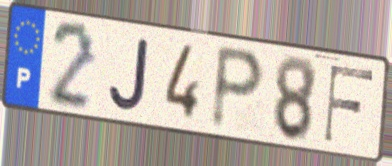2: (47, 17, 102, 113)
4: (162, 43, 203, 123)
8: (271, 52, 319, 145)
F: (321, 62, 377, 146)
J: (106, 35, 153, 115)
P: (208, 41, 268, 134)
